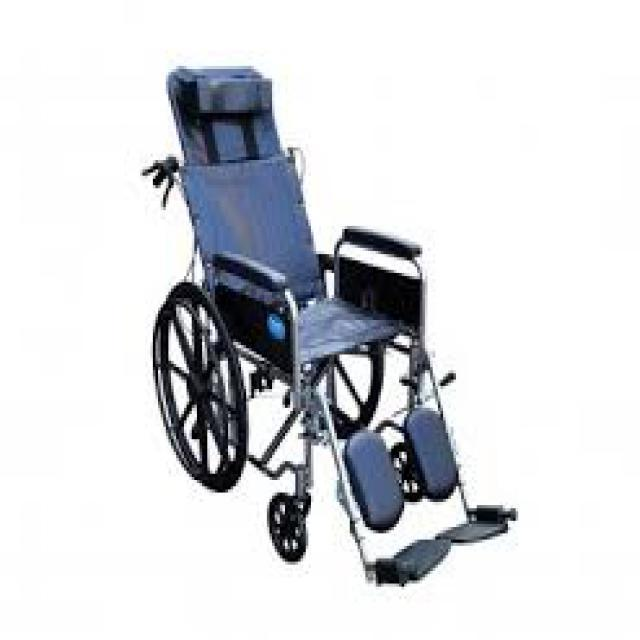wheelchairs: (144, 68, 512, 582)
